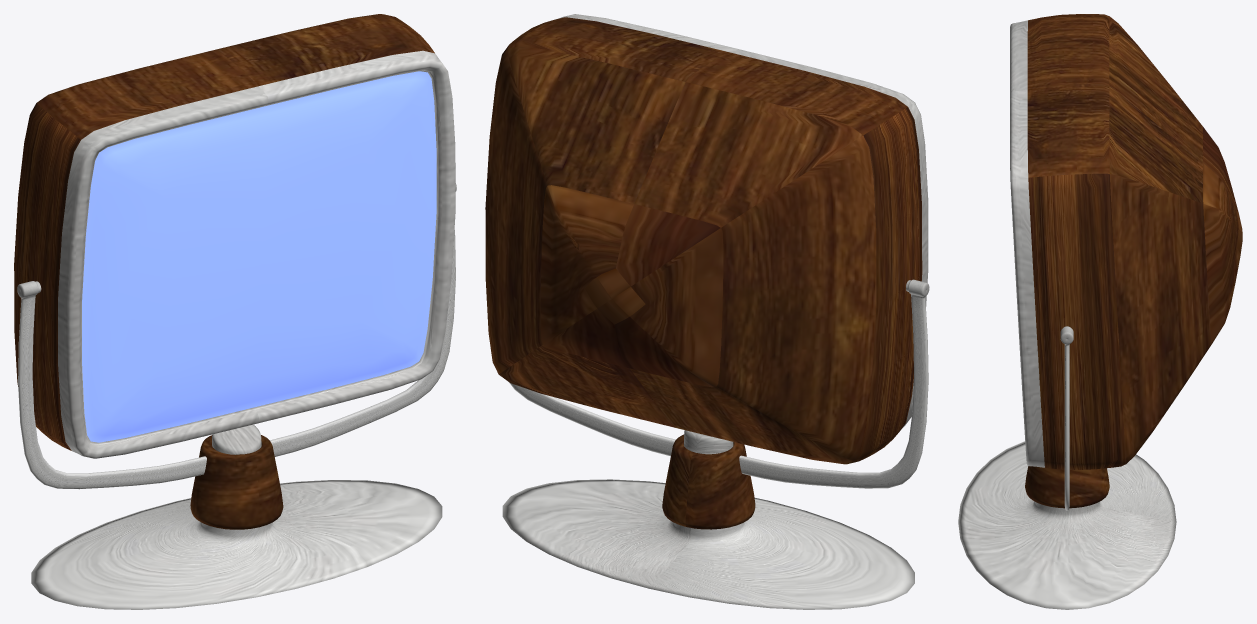
File: pc_retrofuturista.fbx
The picture shows the model from 3 angles, left to right: view 1: azimuth 30°, elevation 25°; view 2: azimuth 150°, elevation 25°; view 3: azimuth 270°, elevation 25°; orthographic projection. The views are drawn at different scales.
Visible parts, largest first — view 1: monitor, base, soporte; view 2: monitor, base, soporte; view 3: monitor, base, soporte.
Part boxes in pixels (x1=…): monitor: x1=14, y1=14, x2=455, y2=458; base: x1=31, y1=424, x2=442, y2=609; soporte: x1=17, y1=183, x2=456, y2=489; monitor: x1=485, y1=14, x2=928, y2=464; base: x1=502, y1=430, x2=914, y2=609; soporte: x1=509, y1=279, x2=929, y2=488; monitor: x1=1010, y1=14, x2=1242, y2=469; base: x1=958, y1=441, x2=1176, y2=609; soporte: x1=1060, y1=326, x2=1073, y2=510.
Bounding box in the file's own units: 58.45 × 61.5 × 36.16.
